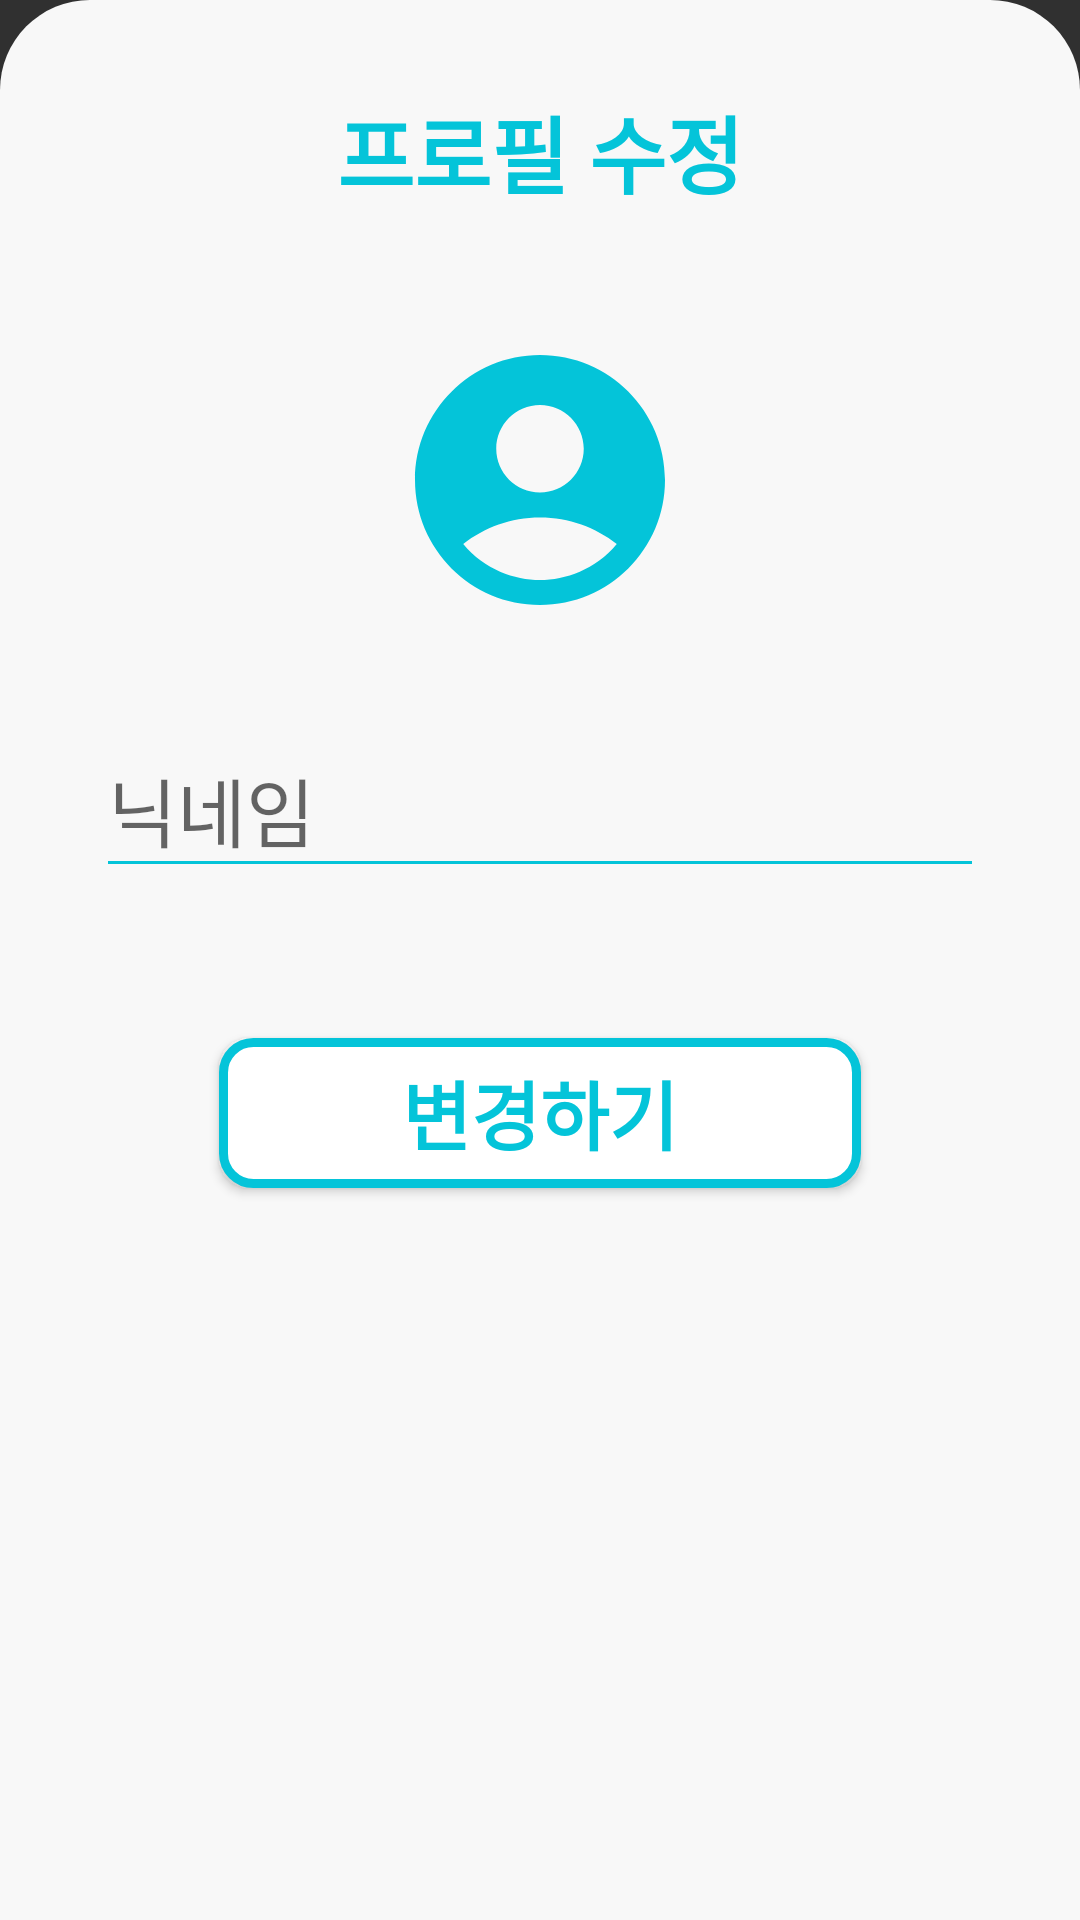

Locate icon controls on the screen. Image size 1080 x 1920, boxes as (x1, y1, x2, y2).
account circle: (415, 355, 665, 605)
